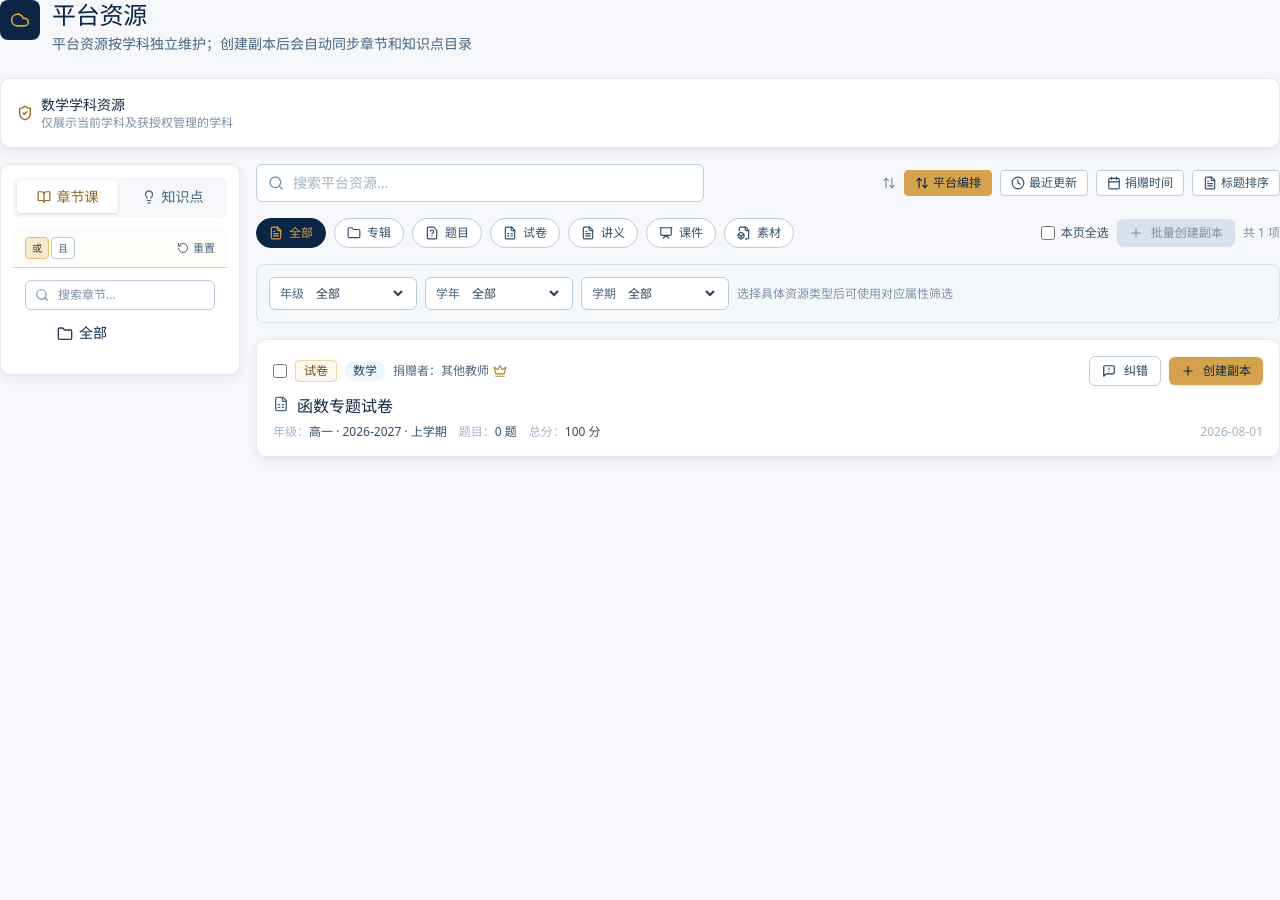
Test: PlatformResourcesPage layout and filters › previews platform documents and saves a copy from the preview
Click the button "函数专题试卷" at (345, 407), box [297,394,393,420]
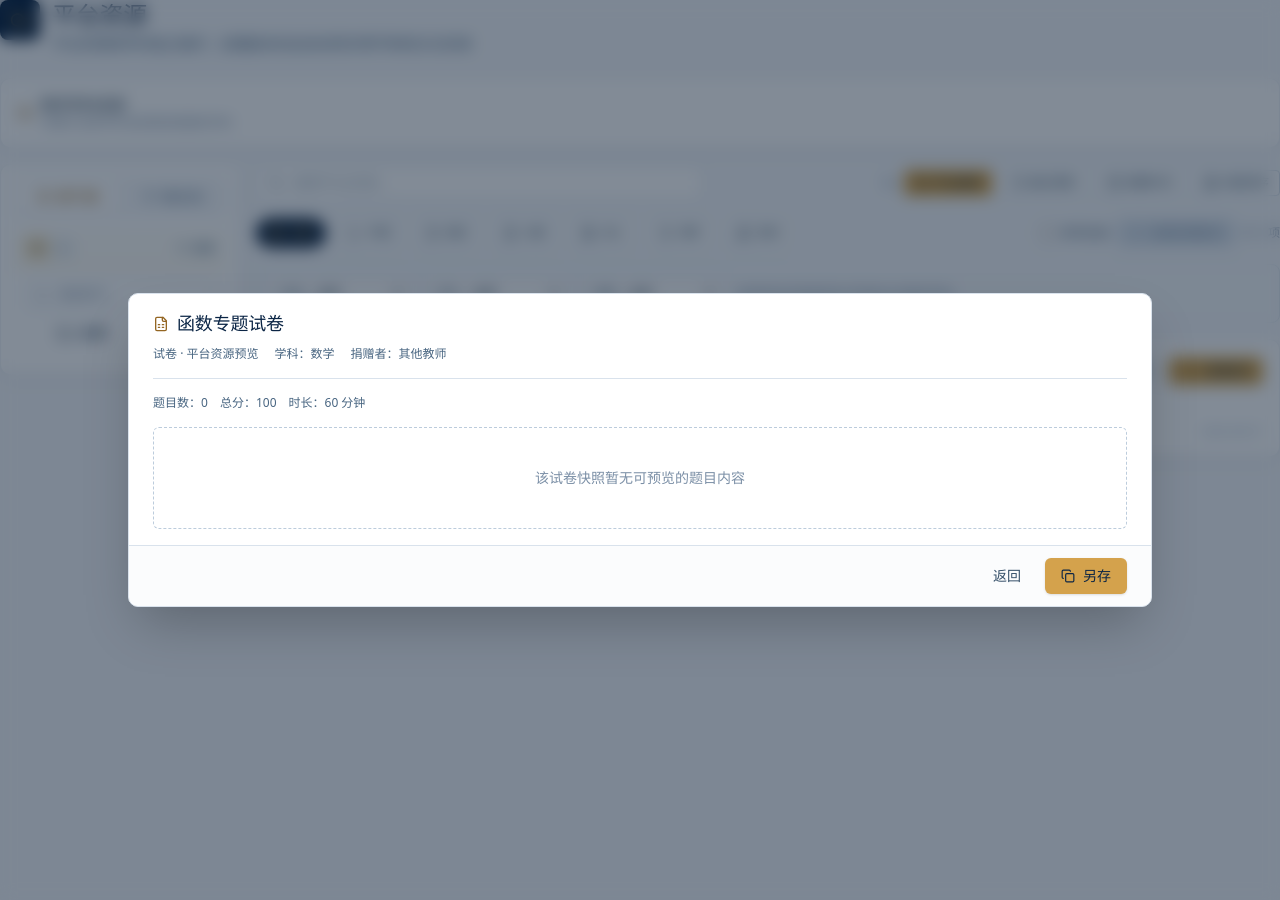
Result: the text "试卷 · 平台资源预览" is shown at [153,346,258,362]
Result: the button "返回" is shown at [977,558,1037,594]
Result: the button "另存" is shown
Click the button "另存" at (1086, 576), box [1045,558,1127,594]
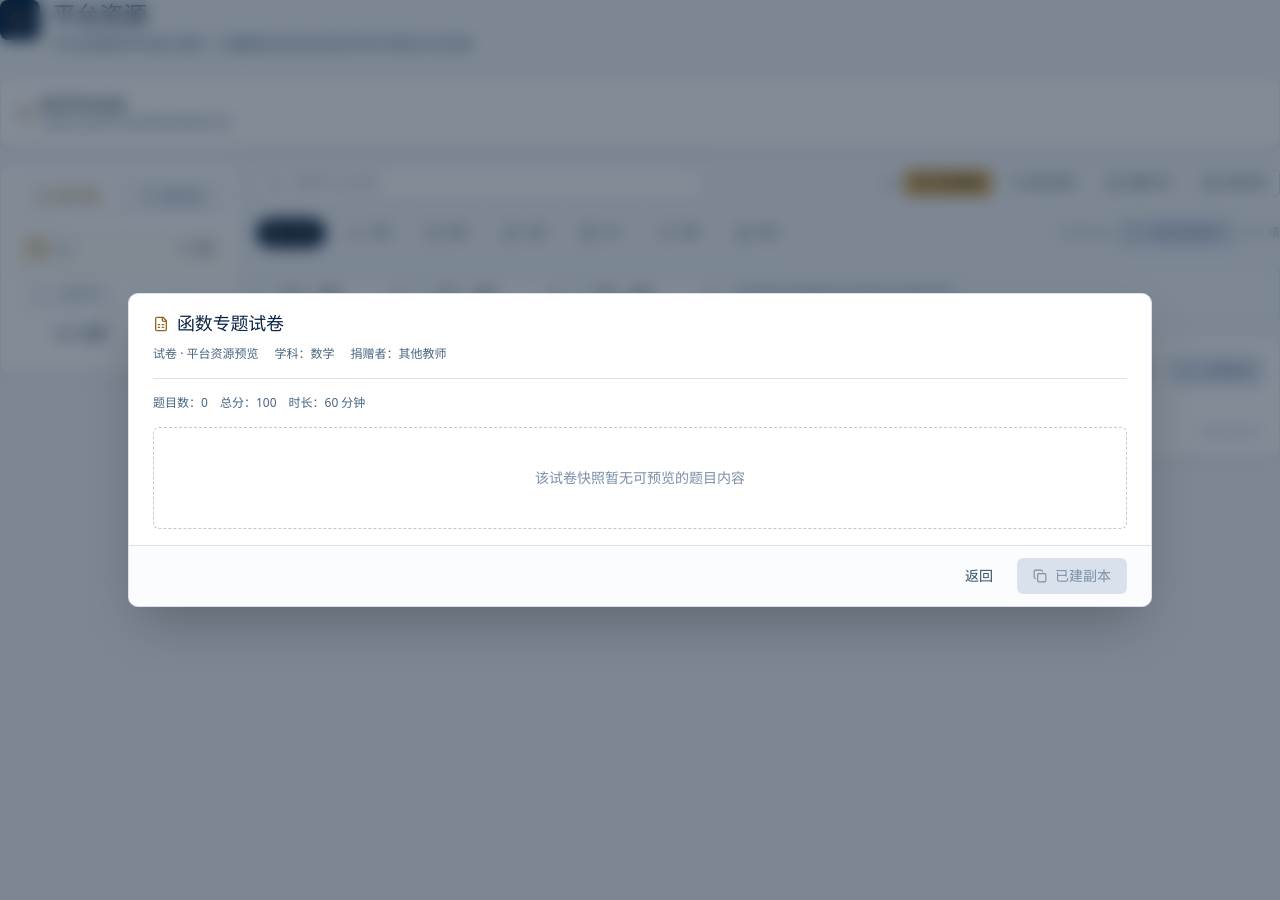
Result: the button "已建副本" is disabled at [1017,558,1127,594]
Click the button "返回" at (979, 576), box [949,558,1009,594]
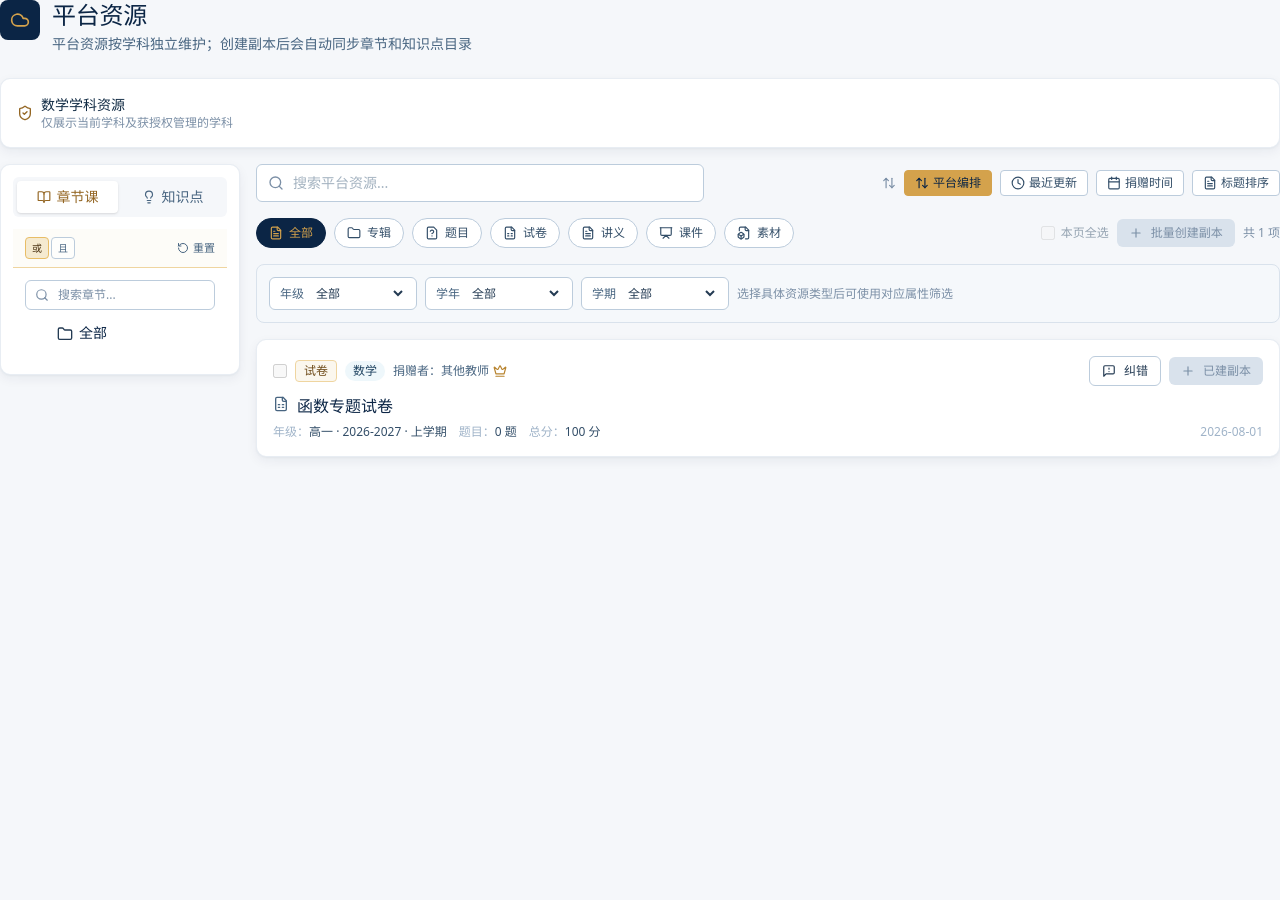
Expected: the button "函数专题试卷" is shown, [297,394,393,420]
Result: the text "试卷 · 平台资源预览" is gone
